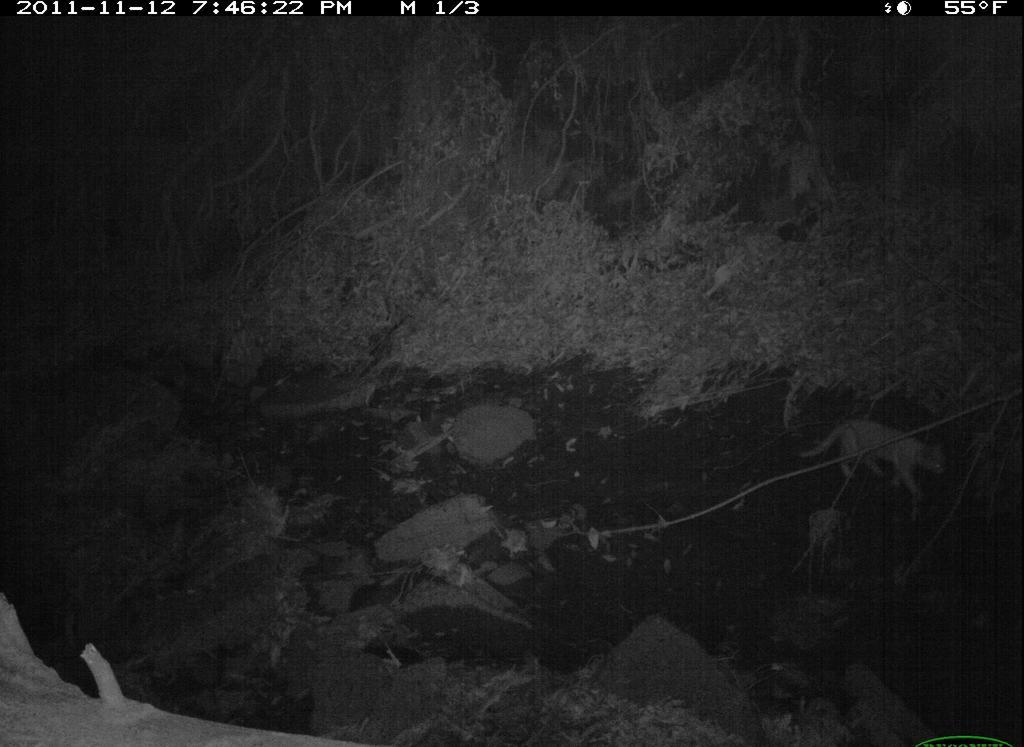cat: (799, 414, 950, 502)
